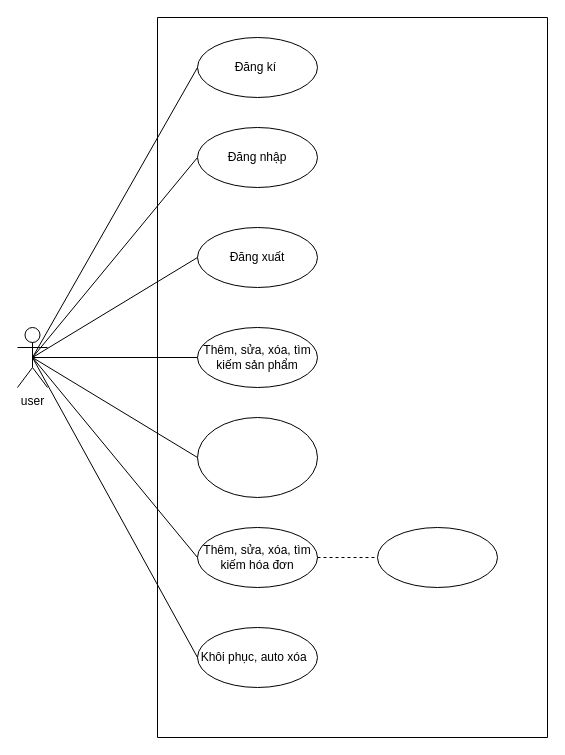
This 565x755 diagram has some shape labels left out. Each missing label, with the centre of its shape:
in hóa đơn: pixel 437 557
Thêm, sửa, xóa, tìm kiếm thông tin khách hàng: pixel 257 457
